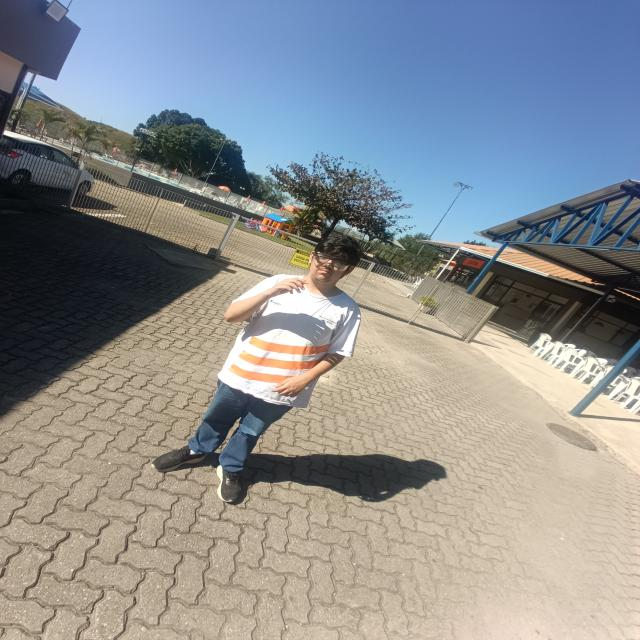oculos-epi: (313, 253, 352, 271)
